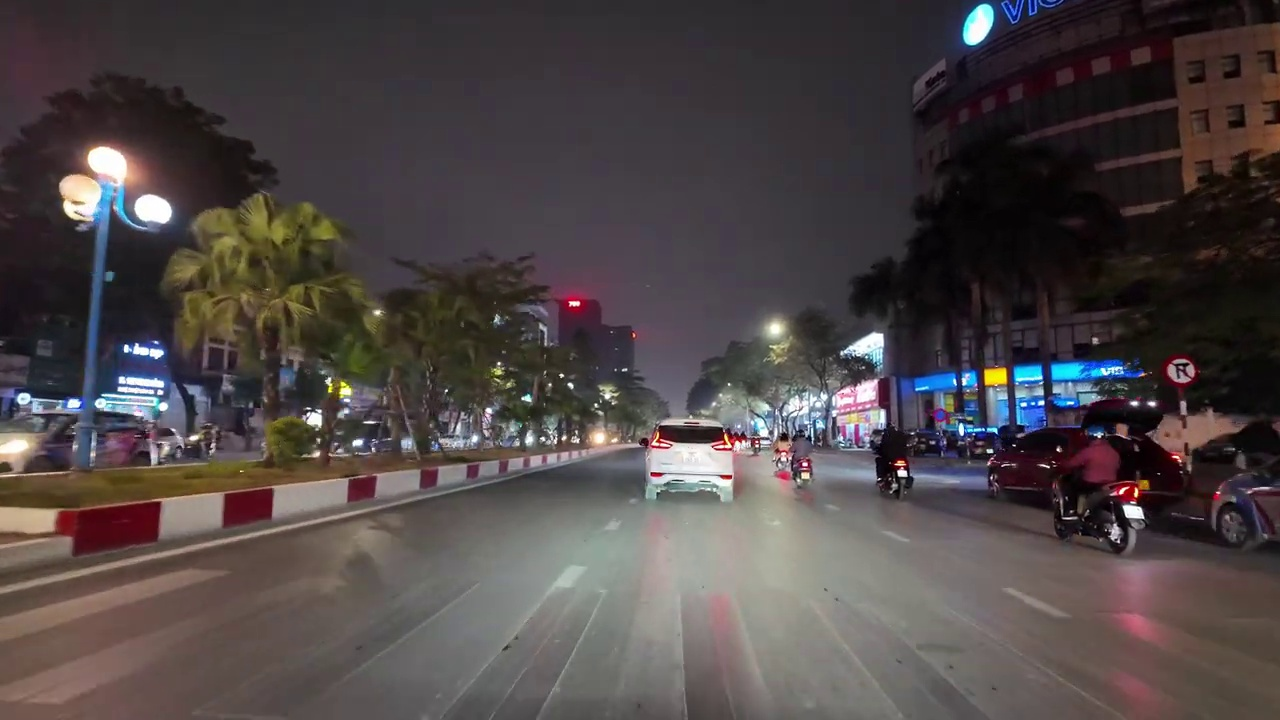acesa: (64, 144, 132, 210), (60, 175, 97, 224), (87, 147, 132, 182), (762, 316, 791, 350), (562, 293, 589, 316)
